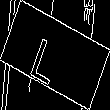L_NE: (35, 26, 75, 84)
